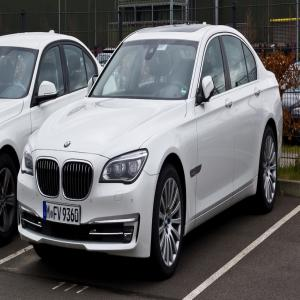Vehicle-registration-plate: (44, 204, 80, 225)
